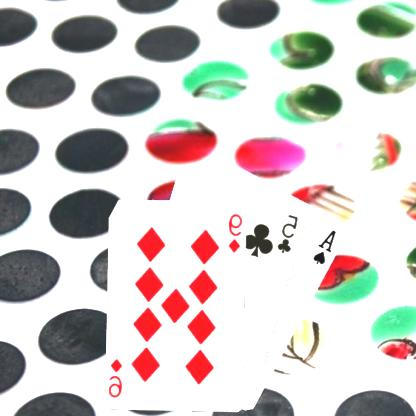5C: (276, 212, 301, 254)
9D: (109, 355, 126, 399), (228, 210, 244, 254)
AS: (312, 227, 340, 266)
